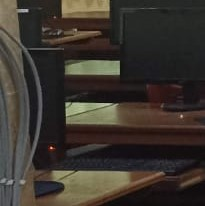monitor: (109, 0, 204, 83)
